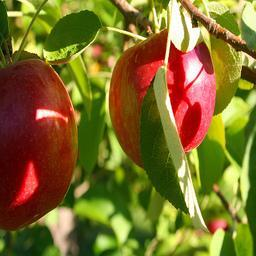apple: (109, 28, 215, 167), (1, 57, 78, 232)
